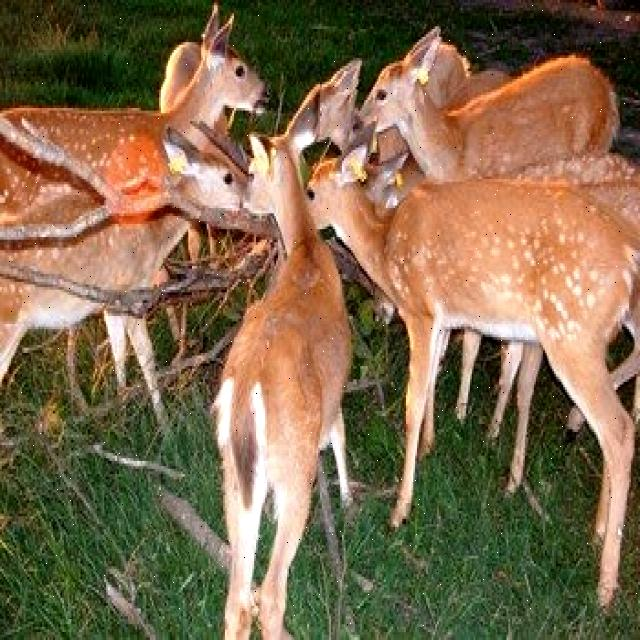deer: (129, 130, 242, 250), (363, 20, 452, 147), (307, 146, 398, 260), (184, 7, 278, 113), (238, 116, 306, 229)
